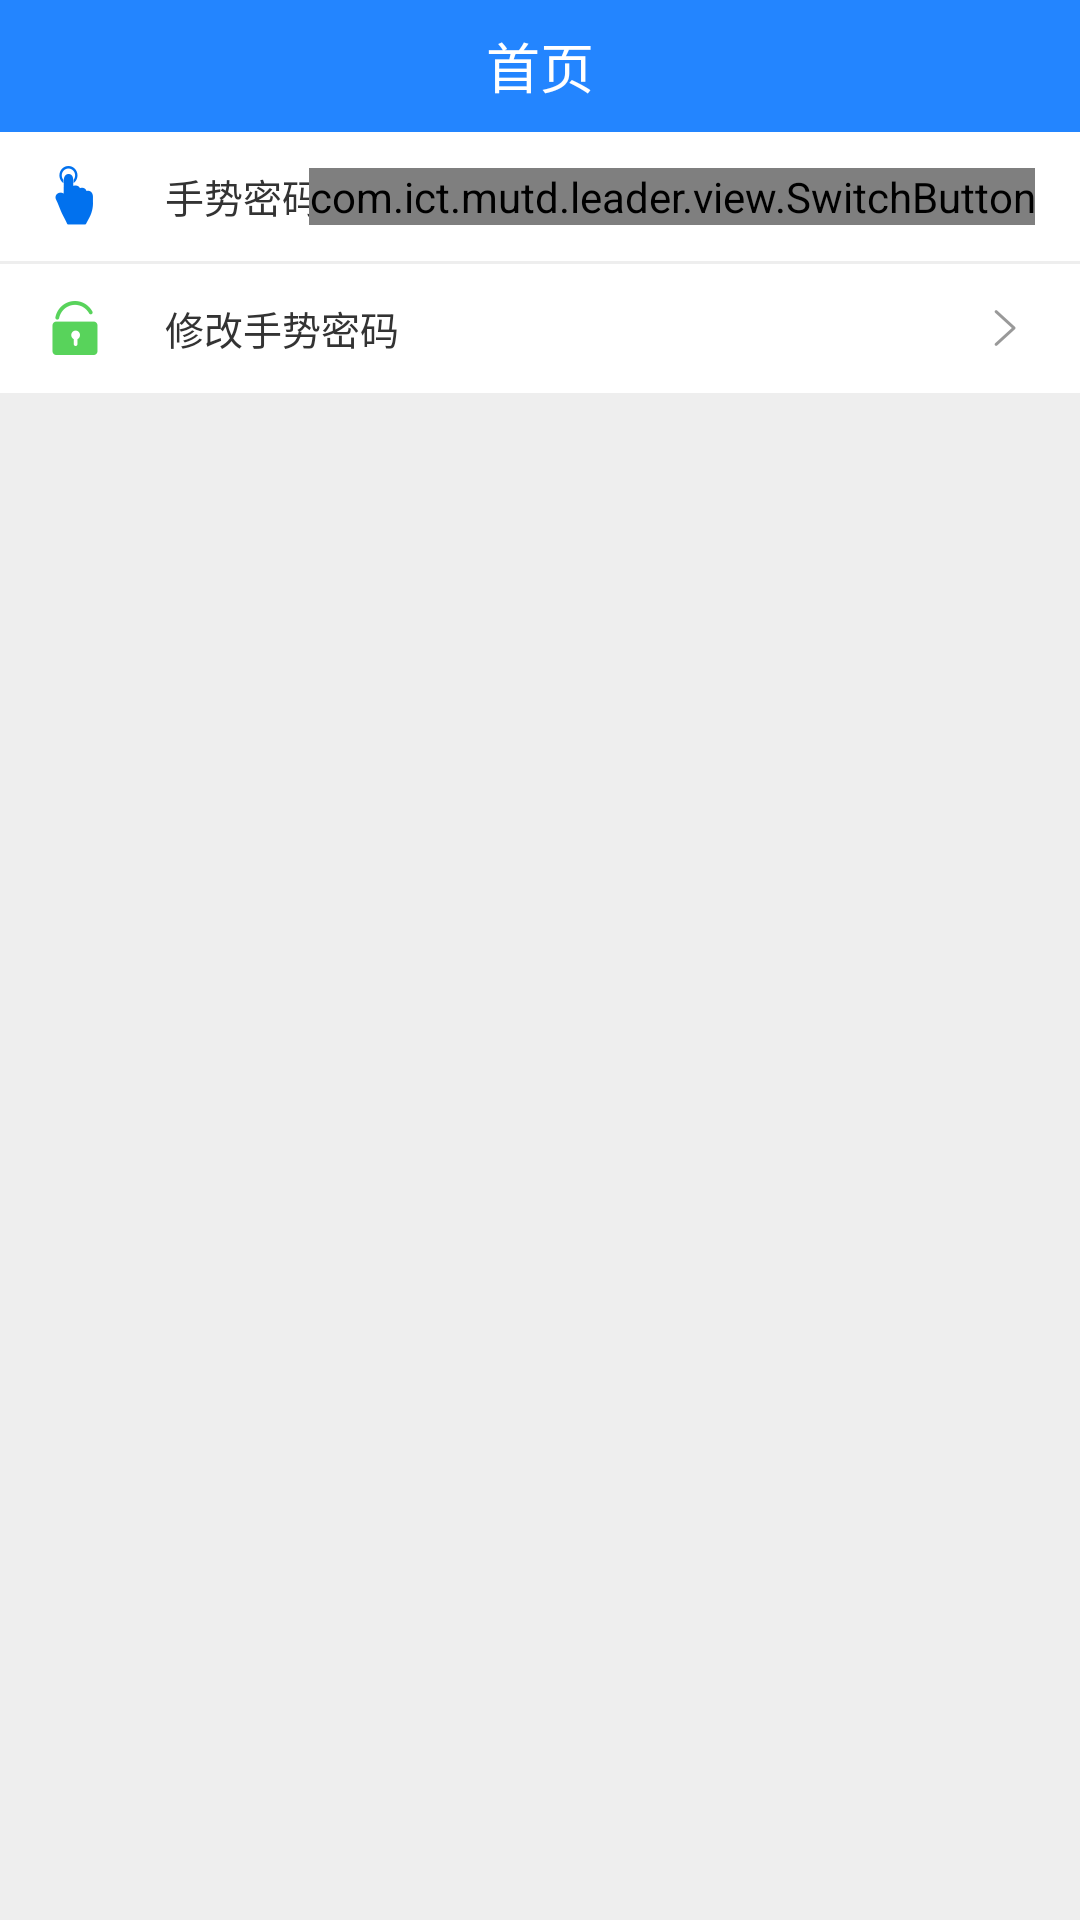

Where to tap for icons on this 1080px×1920px app screen, as [x,y]:
arrow right: [1005,328]
set cp: [75,328]
